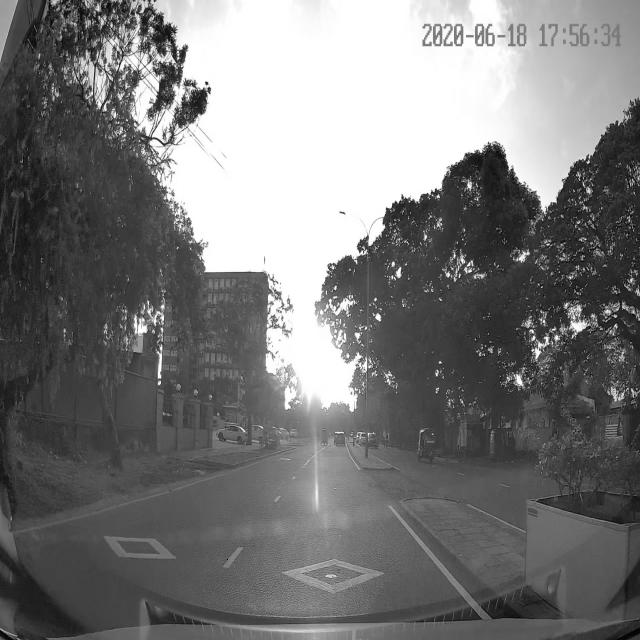diamond: (213, 534, 473, 603)
